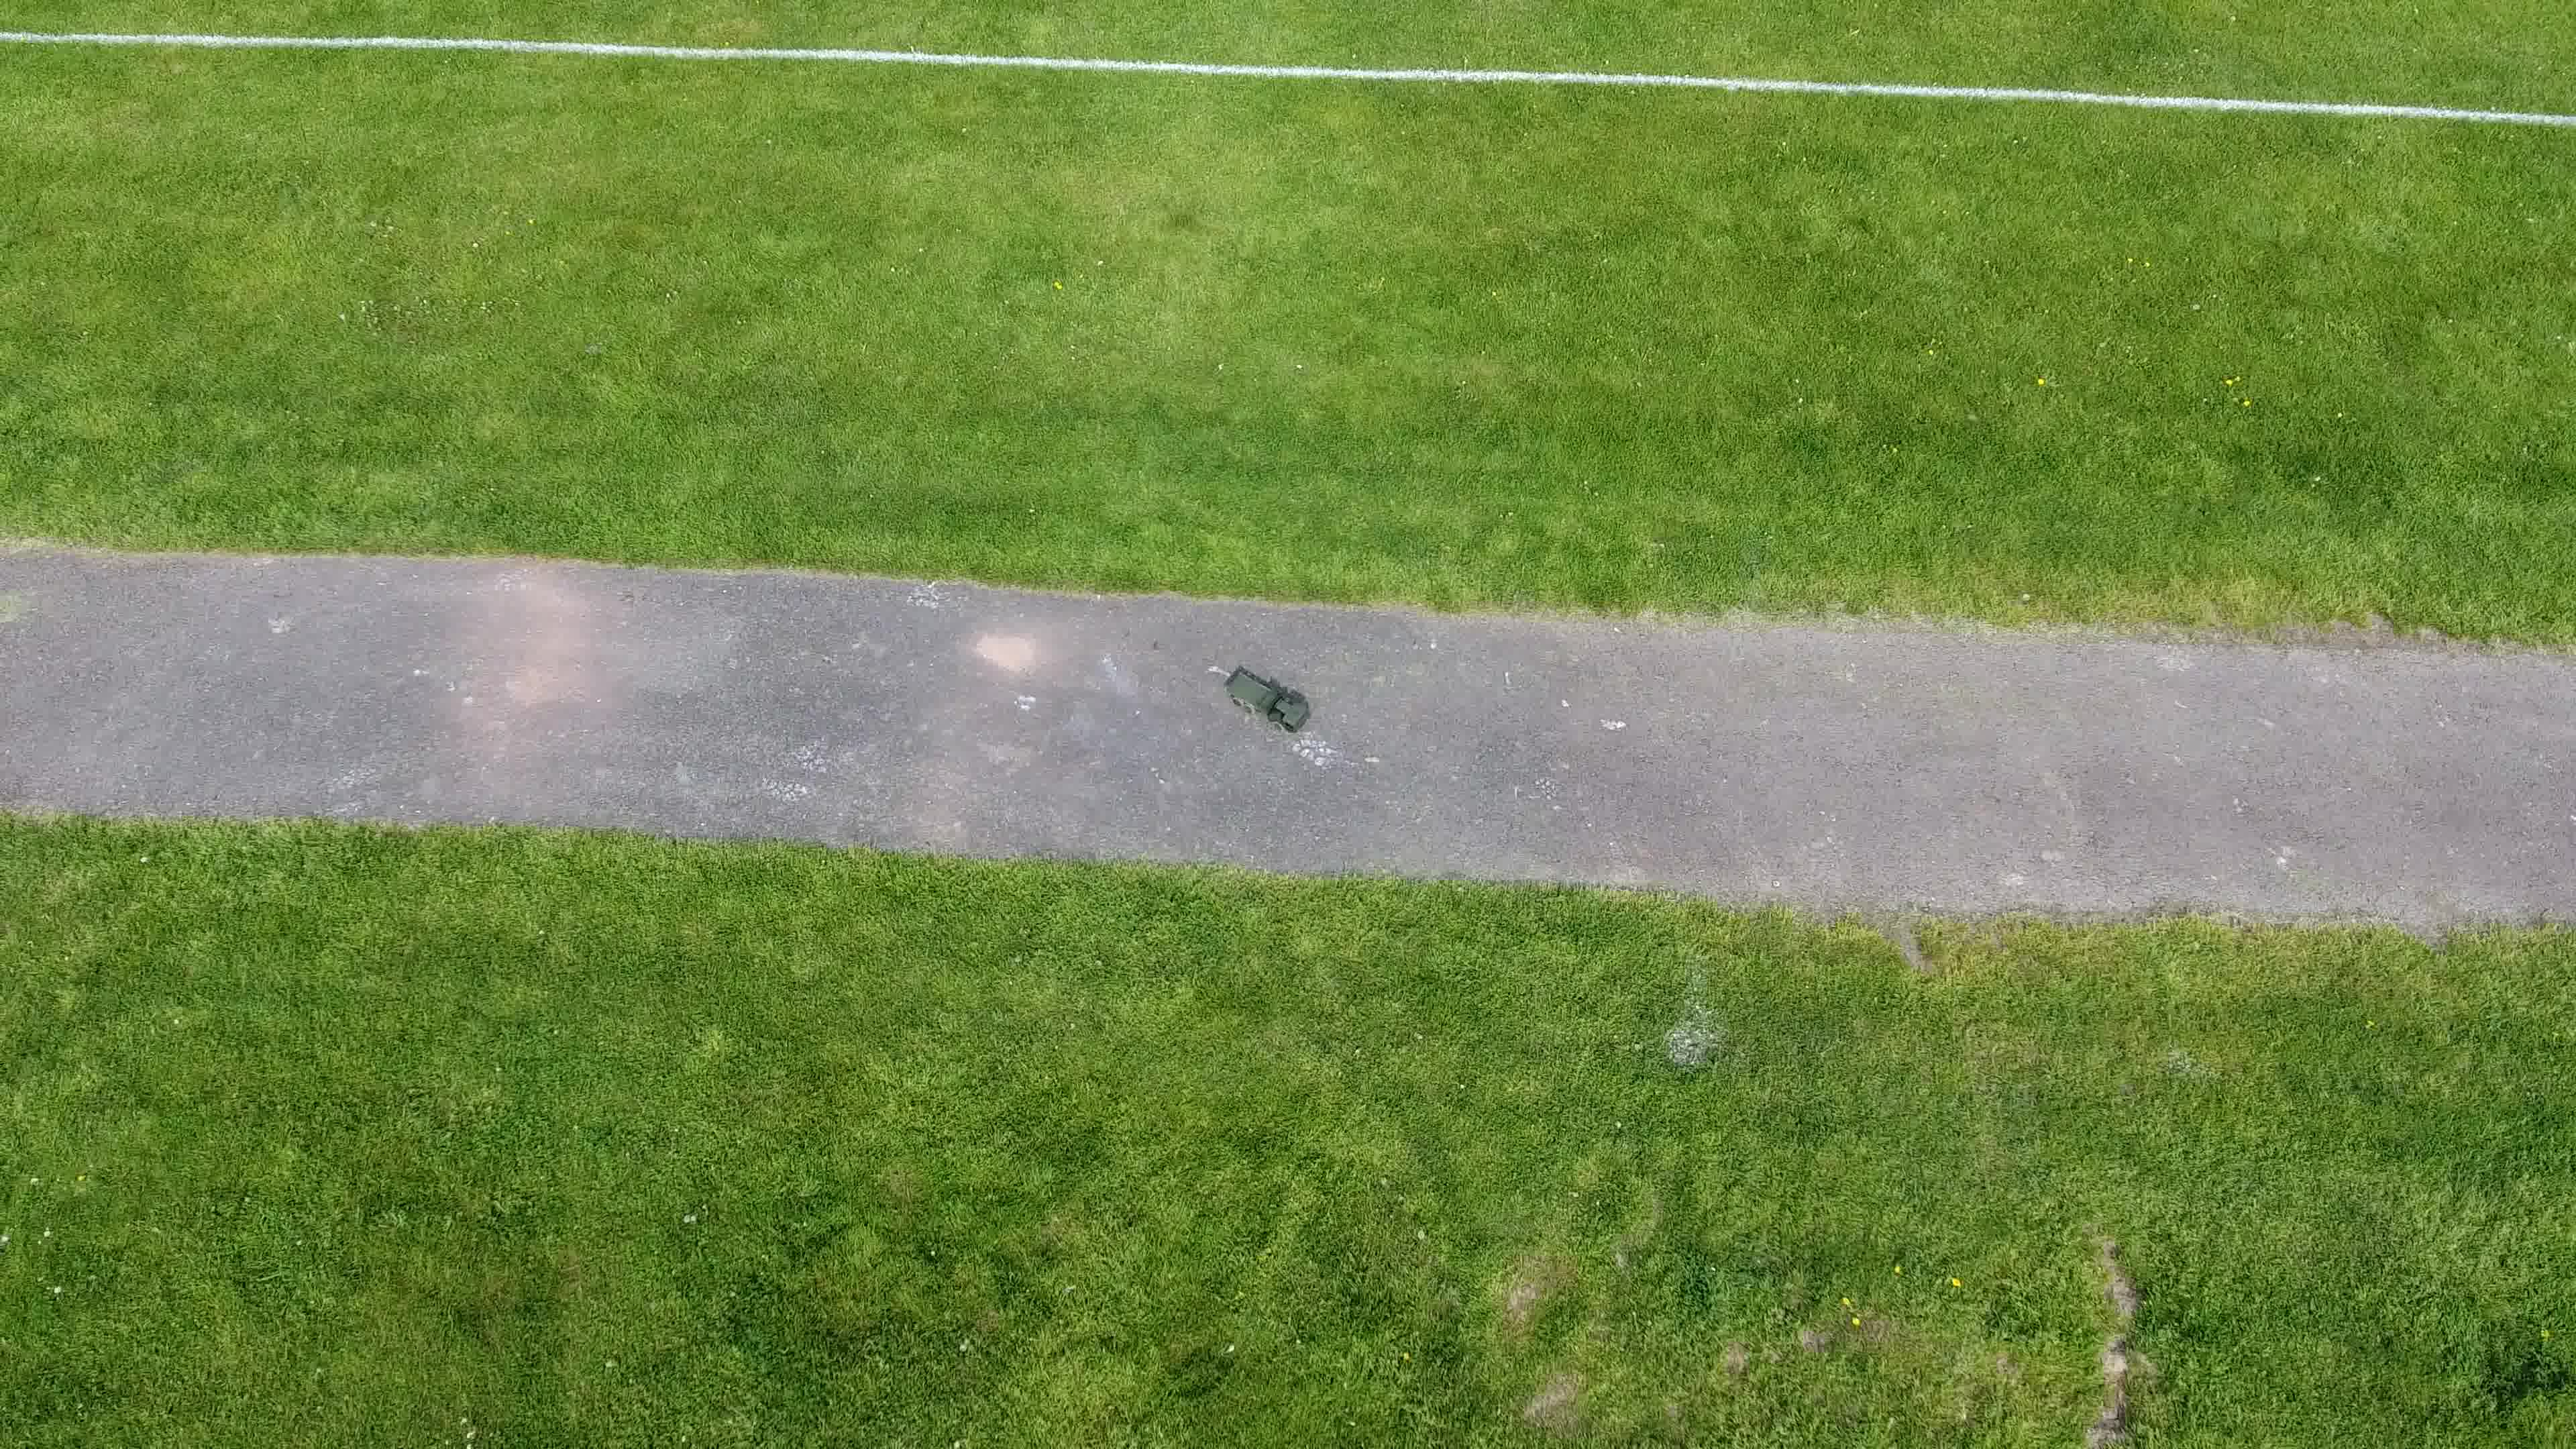transporter9: (1223, 667, 1311, 736)
